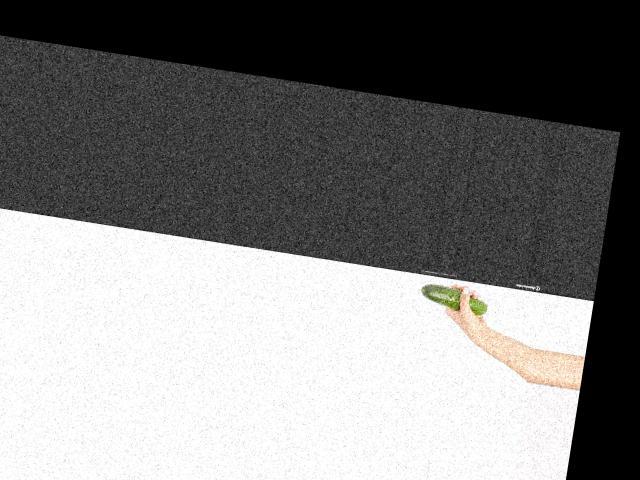cucumber: (418, 281, 488, 315)
